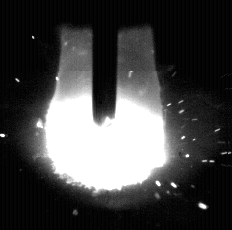arame: (93, 0, 117, 125)
poca: (44, 0, 166, 230)
